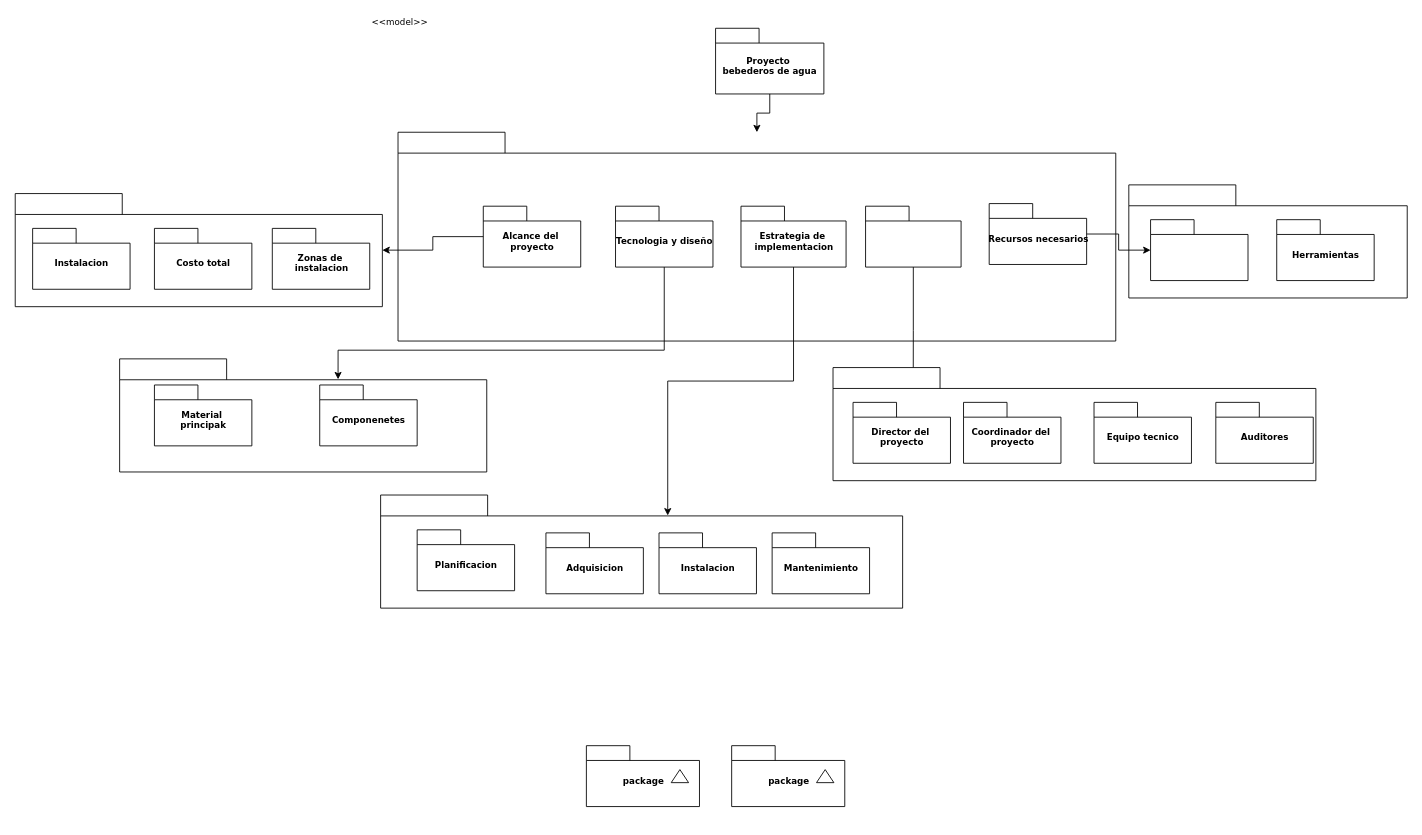
Some shapes in this 1422 by 835 pixel diagram are drawn without their labels. Here are the shapes that lost their labels. From the top down, the box of each, then its label:
(865, 205, 961, 267): Responsables del proyecto
(1150, 219, 1248, 281): Materiales
